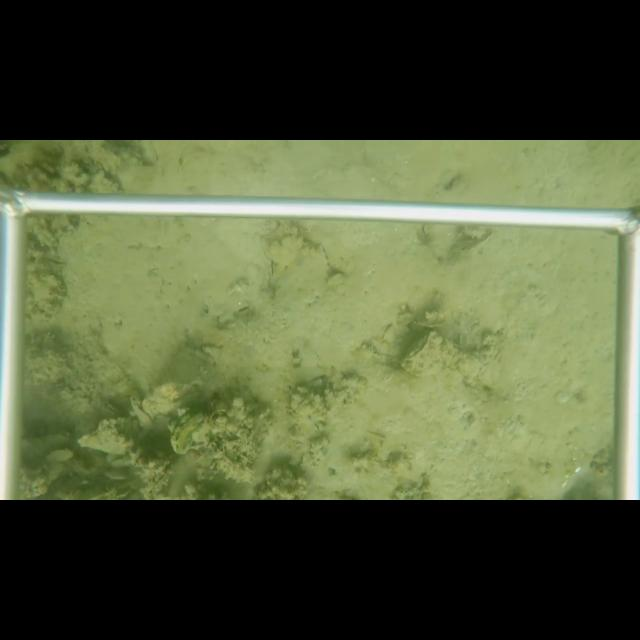Oyster-Closed: (263, 234, 333, 309), (167, 410, 205, 456), (78, 433, 131, 455), (129, 401, 155, 432)
Oyster-Open: (402, 330, 436, 364)
